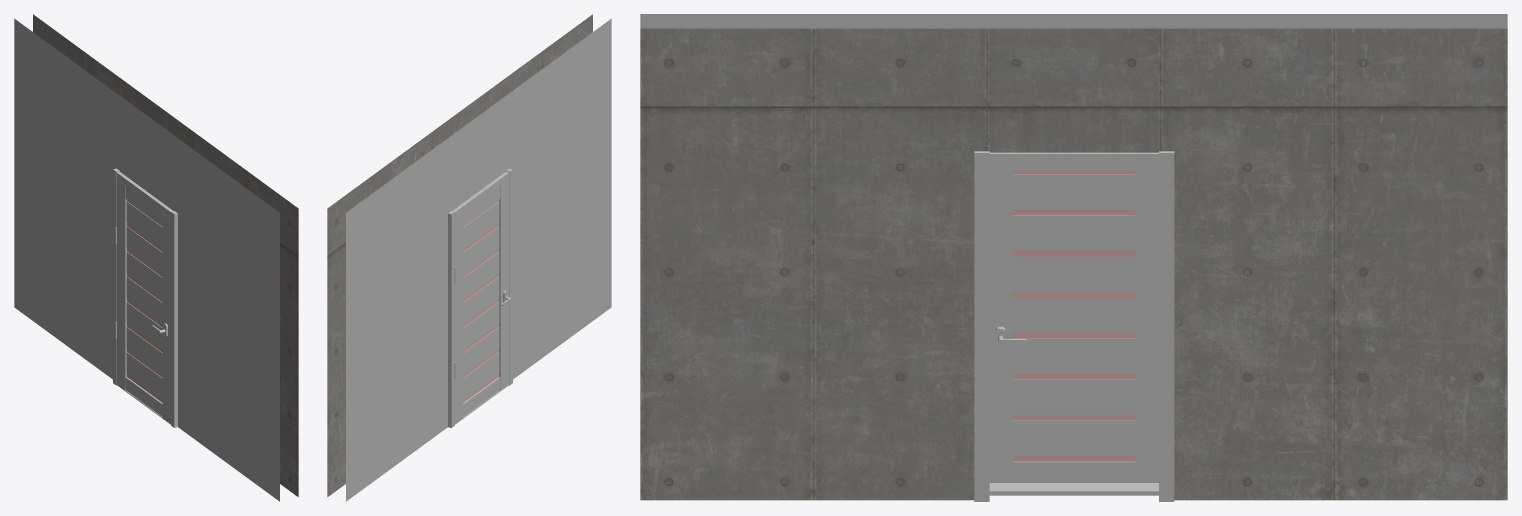
File: AE_Wall_Inner_05.fbx
The picture shows the model from 3 angles, left to right: view 1: azimuth 30°, elevation 25°; view 2: azimuth 150°, elevation 25°; view 3: azimuth 270°, elevation 25°; orthographic projection. The views are drawn at different scales.
Visible parts, largest first — view 1: AE_Wall_Inner_05_LOD0, AE_Door_02_05_LOD0; view 2: AE_Wall_Inner_05_LOD0, AE_Door_02_05_LOD0; view 3: AE_Wall_Inner_05_LOD0, AE_Door_02_05_LOD0.
Part boxes in pixels (box(x1,y1,x2,y2)): AE_Wall_Inner_05_LOD0: box(14, 14, 298, 501); AE_Door_02_05_LOD0: box(116, 180, 170, 423); AE_Wall_Inner_05_LOD0: box(327, 14, 611, 501); AE_Door_02_05_LOD0: box(455, 180, 512, 423); AE_Wall_Inner_05_LOD0: box(640, 14, 1507, 501); AE_Door_02_05_LOD0: box(989, 169, 1158, 482).
Bounding box in the file's own units: 33.26 × 300 × 500.
